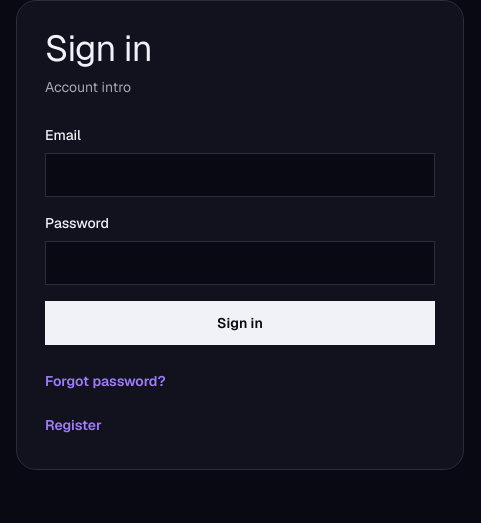
Test: password sign-in and signup › reports bad credentials and permits retry
Type "reader@example.com" into the field labelled "Email".
click(240, 175); type("reader@example.com")  # box left=45, top=153, right=435, bottom=197
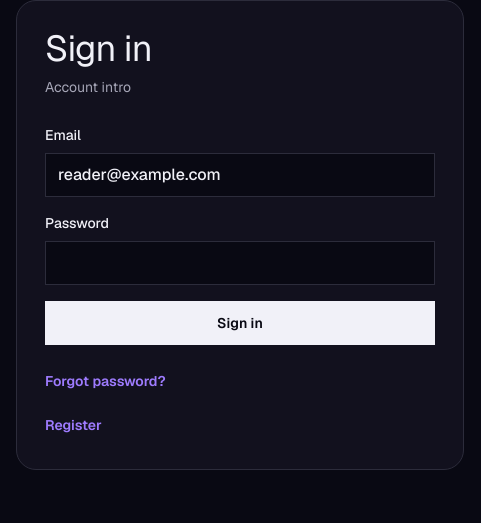
Type "correct-password" into the password field labelled "Password".
click(240, 263); type("correct-password")  # box left=45, top=241, right=435, bottom=285
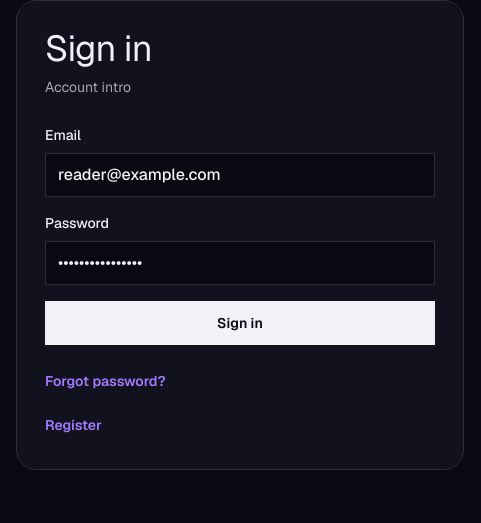
Click the button "Sign in".
click(240, 323)  # box left=45, top=301, right=435, bottom=345
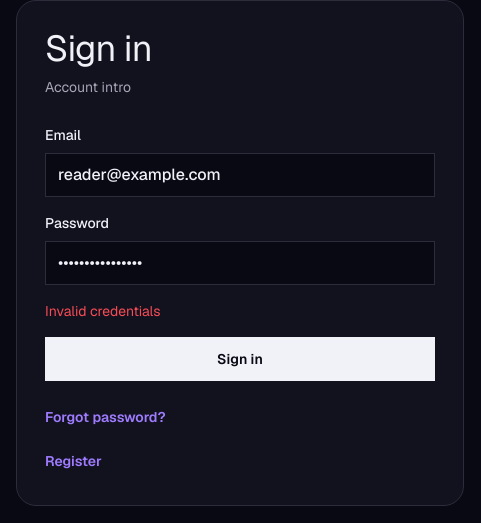
Check: the button "Sign in" is enabled, box left=45, top=337, right=435, bottom=381
Check: the message reads "Invalid credentials", box left=45, top=302, right=160, bottom=320
